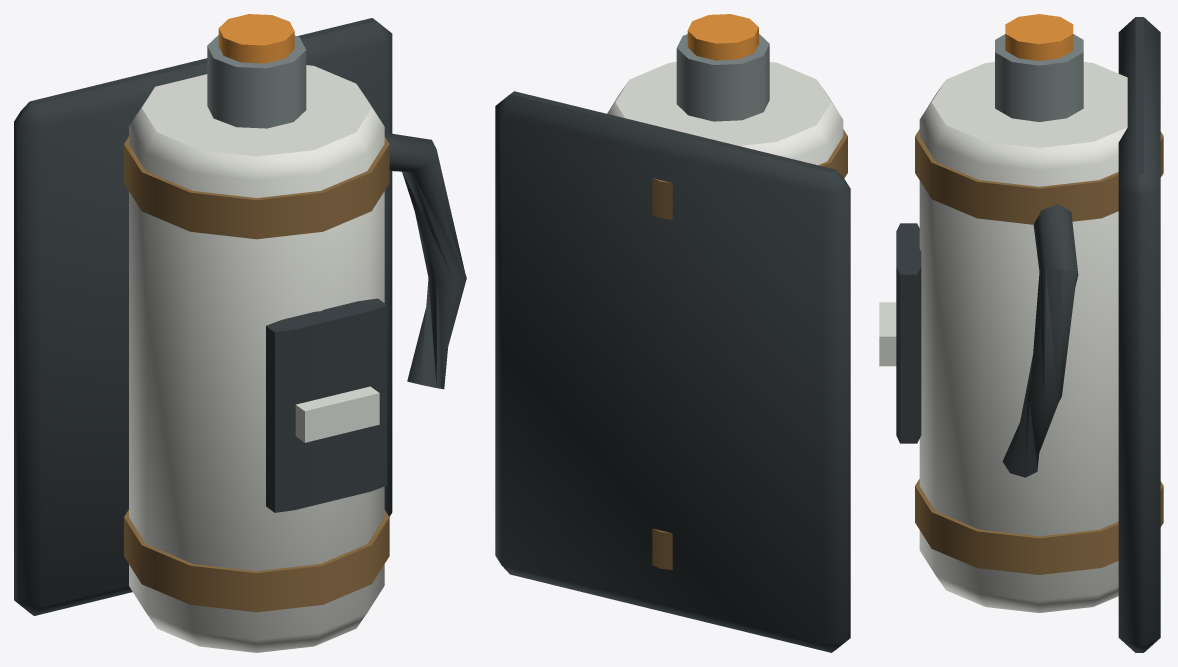
File: person_pack_firefoam.obj
3 views of the same model, side by side, from view 1: azimuth 30°, elevation 25°; view 2: azimuth 150°, elevation 25°; view 3: azimuth 270°, elevation 25° (orthographic). The views are drawn at different scales.
Visible parts, largest first — view 1: main_tank, body_interface_unchanged, part_248_utility_dark, part_088_utility_copper, part_132_utility_copper, part_272_utility_dark, part_176_utility_steel, part_260_utility_shell, part_212_utility_amber; view 2: body_interface_unchanged, main_tank, part_176_utility_steel, part_212_utility_amber, part_132_utility_copper, part_088_utility_copper; view 3: main_tank, body_interface_unchanged, part_272_utility_dark, part_088_utility_copper, part_132_utility_copper, part_176_utility_steel, part_248_utility_dark, part_212_utility_amber, part_260_utility_shell.
Part boxes in pixels (bbox=[...]): main_tank: bbox=[129, 65, 384, 652]; body_interface_unchanged: bbox=[14, 18, 392, 615]; part_248_utility_dark: bbox=[266, 298, 386, 512]; part_088_utility_copper: bbox=[124, 509, 389, 612]; part_132_utility_copper: bbox=[124, 136, 389, 239]; part_272_utility_dark: bbox=[384, 132, 466, 389]; part_176_utility_steel: bbox=[207, 35, 306, 128]; part_260_utility_shell: bbox=[295, 386, 379, 442]; part_212_utility_amber: bbox=[218, 14, 294, 63]; body_interface_unchanged: bbox=[495, 91, 850, 652]; main_tank: bbox=[607, 62, 843, 165]; part_176_utility_steel: bbox=[676, 34, 769, 121]; part_212_utility_amber: bbox=[687, 14, 758, 60]; part_132_utility_copper: bbox=[652, 129, 847, 219]; part_088_utility_copper: bbox=[652, 528, 672, 569]; main_tank: bbox=[919, 62, 1127, 612]; body_interface_unchanged: bbox=[1118, 17, 1160, 652]; part_272_utility_dark: bbox=[1002, 204, 1078, 477]; part_088_utility_copper: bbox=[915, 479, 1163, 574]; part_132_utility_copper: bbox=[915, 129, 1163, 224]; part_176_utility_steel: bbox=[995, 34, 1083, 121]; part_248_utility_dark: bbox=[896, 223, 921, 443]; part_212_utility_amber: bbox=[1005, 14, 1073, 60]; part_260_utility_shell: bbox=[879, 302, 896, 366].
Size of the model in its own units: 0.277 by 0.387 by 0.183.
